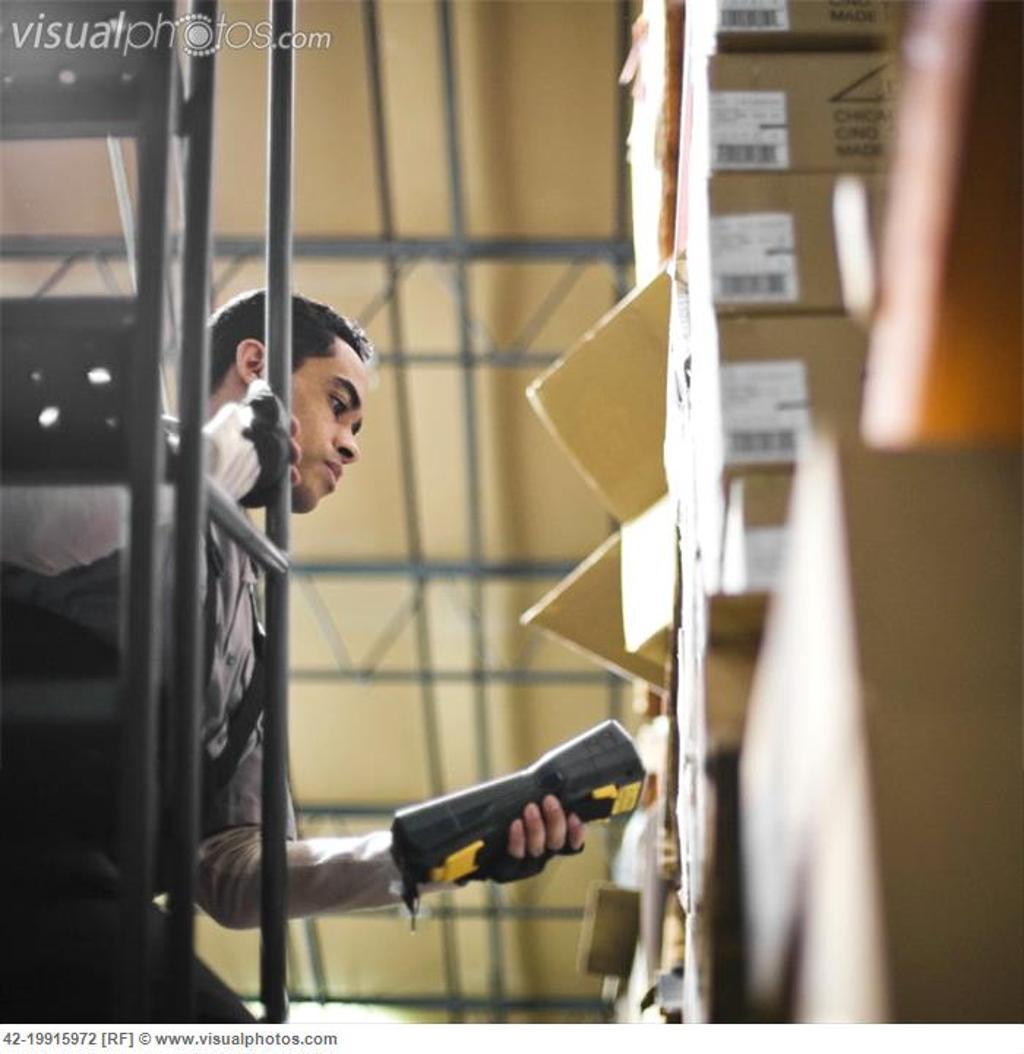face: (256, 338, 365, 500)
